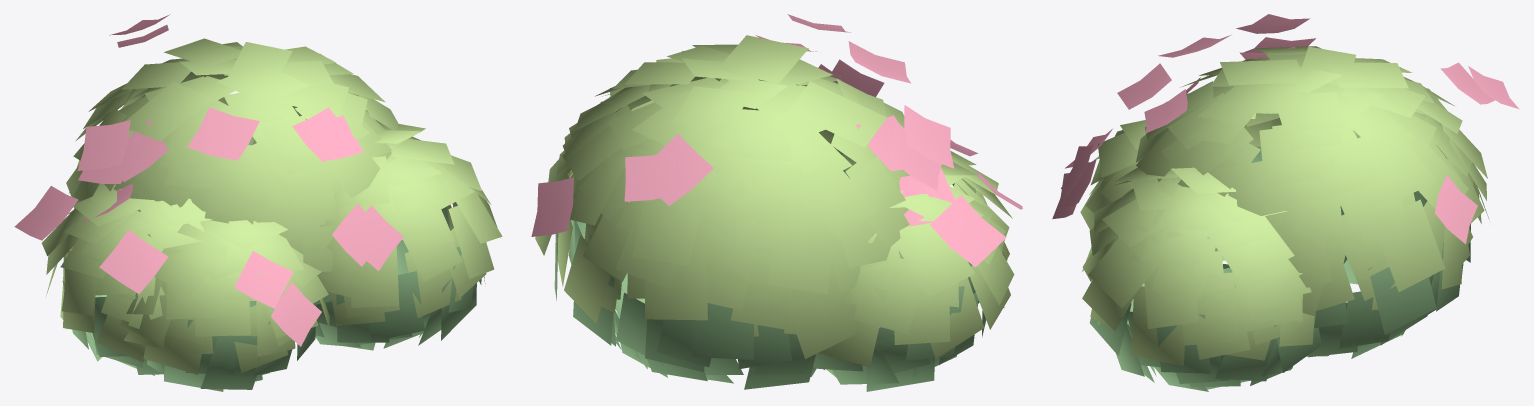
The model's file is plant_bush_d.glb.
3 renders of one model, left to right at view 1: azimuth 30°, elevation 25°; view 2: azimuth 150°, elevation 25°; view 3: azimuth 270°, elevation 25°, orthographic. The views are drawn at different scales.
Visible parts, largest first — view 1: plant_bush_3; view 2: plant_bush_3; view 3: plant_bush_3.
Part boxes in pixels (x1,y1,x2,y2): plant_bush_3: (14, 14, 502, 391); plant_bush_3: (531, 14, 1022, 391); plant_bush_3: (1052, 14, 1519, 391).
Size of the model in its own units: 2.11 by 1.27 by 1.99.
